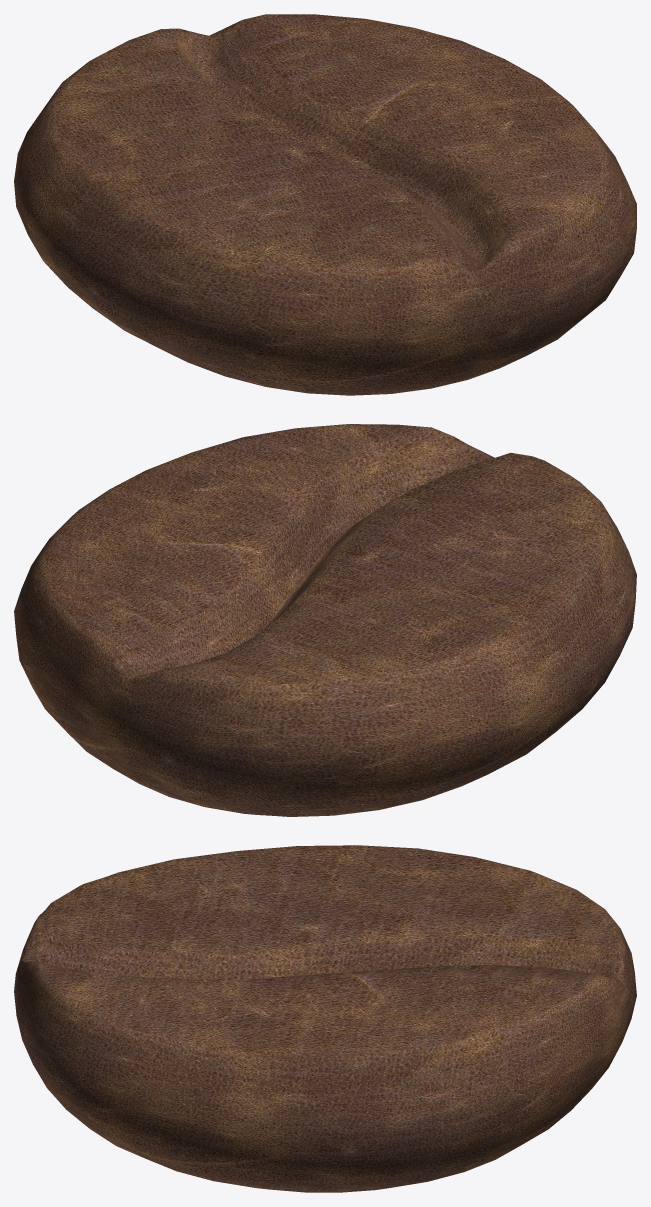
File: coffee-bean-sculpt.glb
3 renders of one model, top to bottom at view 1: azimuth 30°, elevation 25°; view 2: azimuth 150°, elevation 25°; view 3: azimuth 270°, elevation 25°, orthographic. The views are drawn at different scales.
Visible parts, largest first — view 1: CoffeeBean; view 2: CoffeeBean; view 3: CoffeeBean.
Boxes of the visible parts, bbox=[...] form: CoffeeBean: bbox=[14, 14, 636, 395]; CoffeeBean: bbox=[14, 424, 636, 816]; CoffeeBean: bbox=[14, 845, 636, 1192].
Size of the model in its own units: 0.1035 by 0.0393 by 0.114.
1 material, 1 textured.
